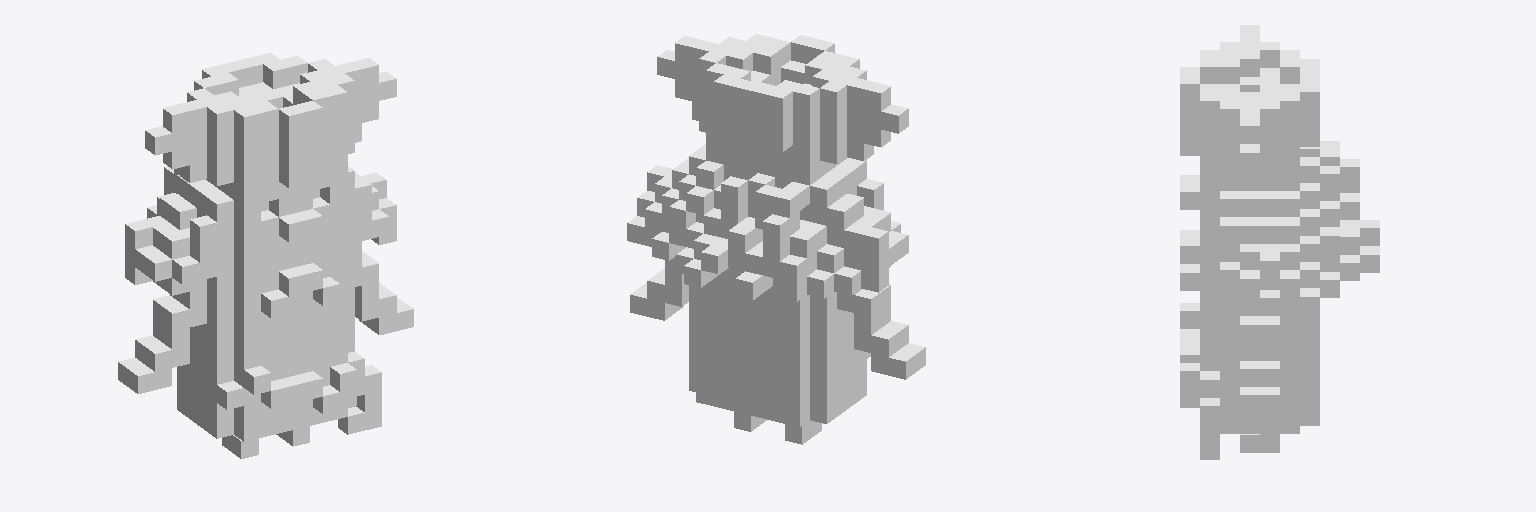
File: pirate_2.obj
3 views of the same model, side by side, from view 1: azimuth 30°, elevation 25°; view 2: azimuth 150°, elevation 25°; view 3: azimuth 270°, elevation 25° (orthographic).
Size of the model in its own units: 16 by 20 by 10.